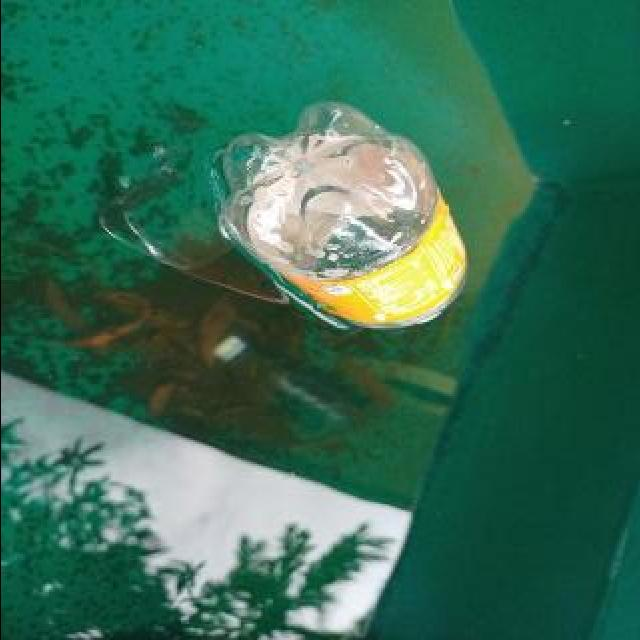Bottle: (204, 92, 480, 344)
